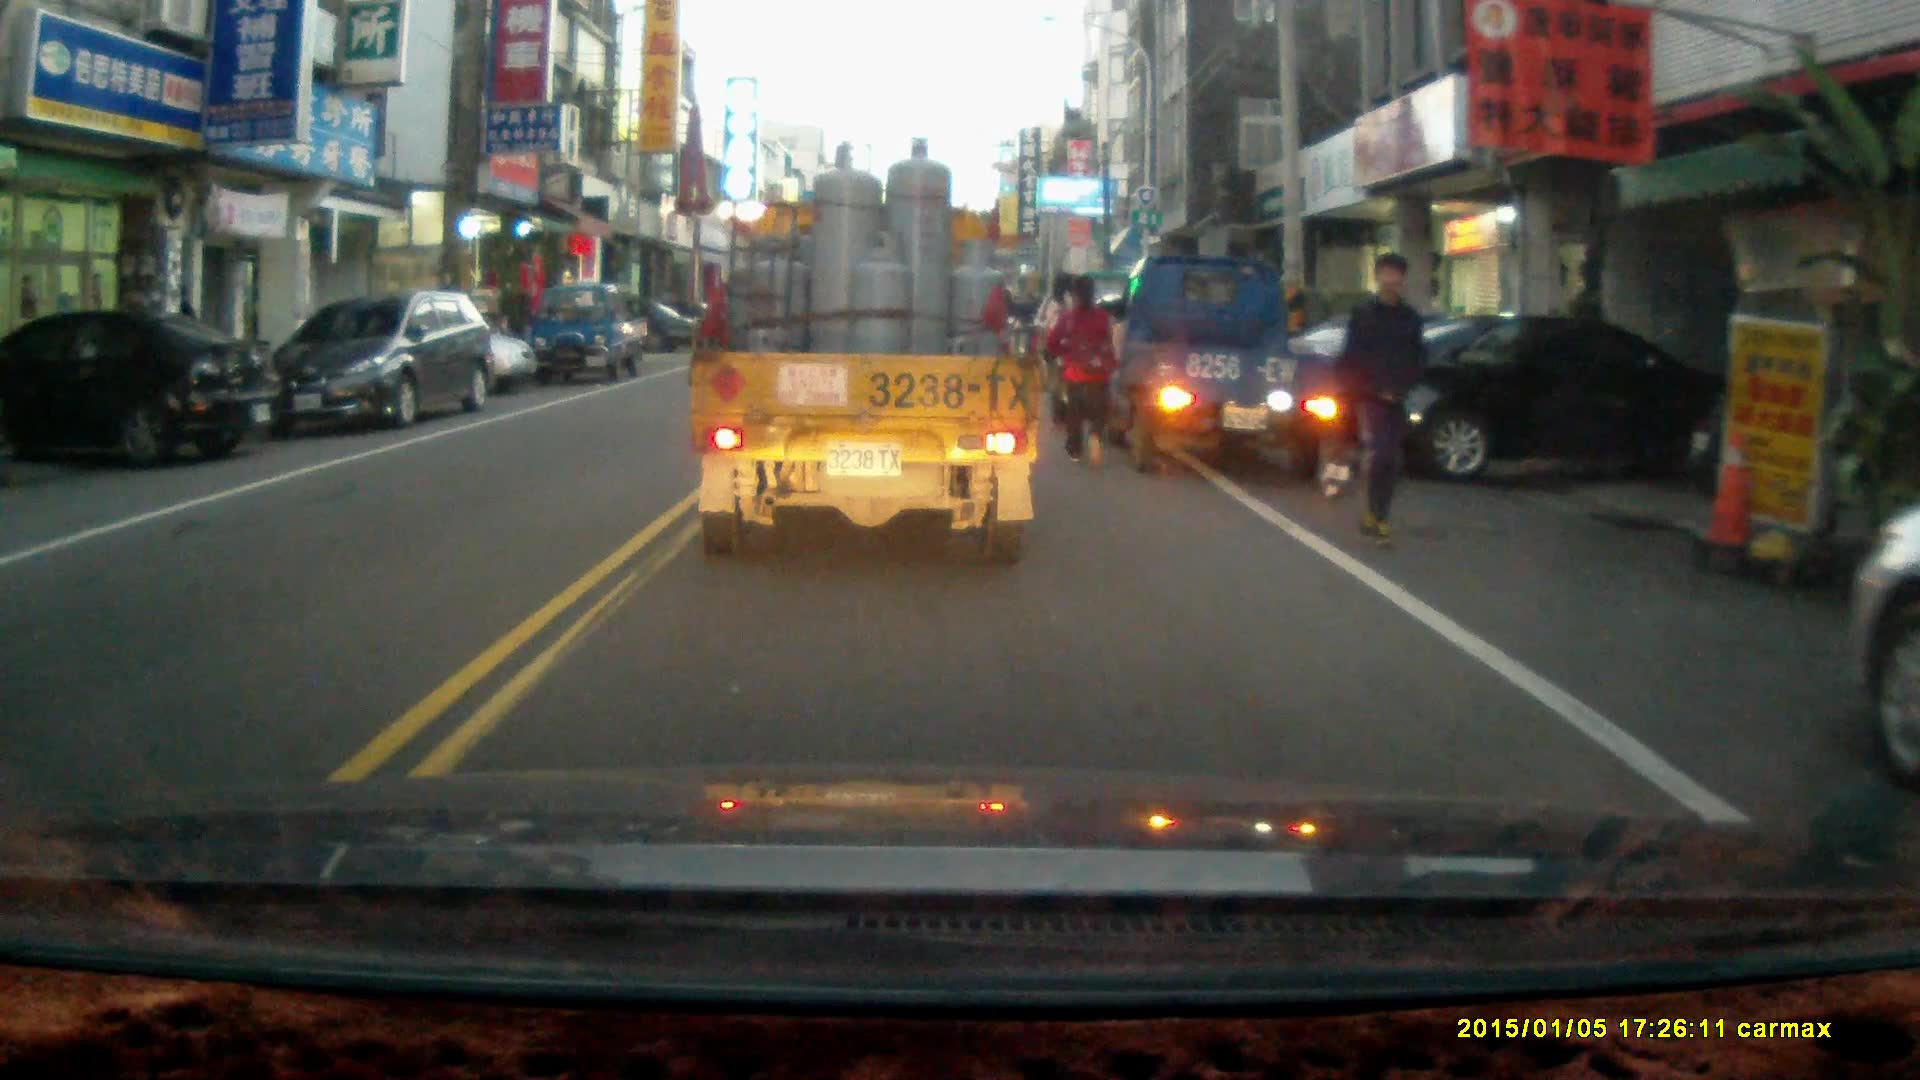pedestrian: (1331, 254, 1426, 552), (1046, 271, 1118, 465)
vehicle: (684, 139, 1046, 571), (1334, 306, 1670, 490), (1113, 253, 1362, 479), (1, 306, 282, 475), (255, 286, 505, 434), (1837, 506, 1920, 797), (531, 278, 653, 383)
